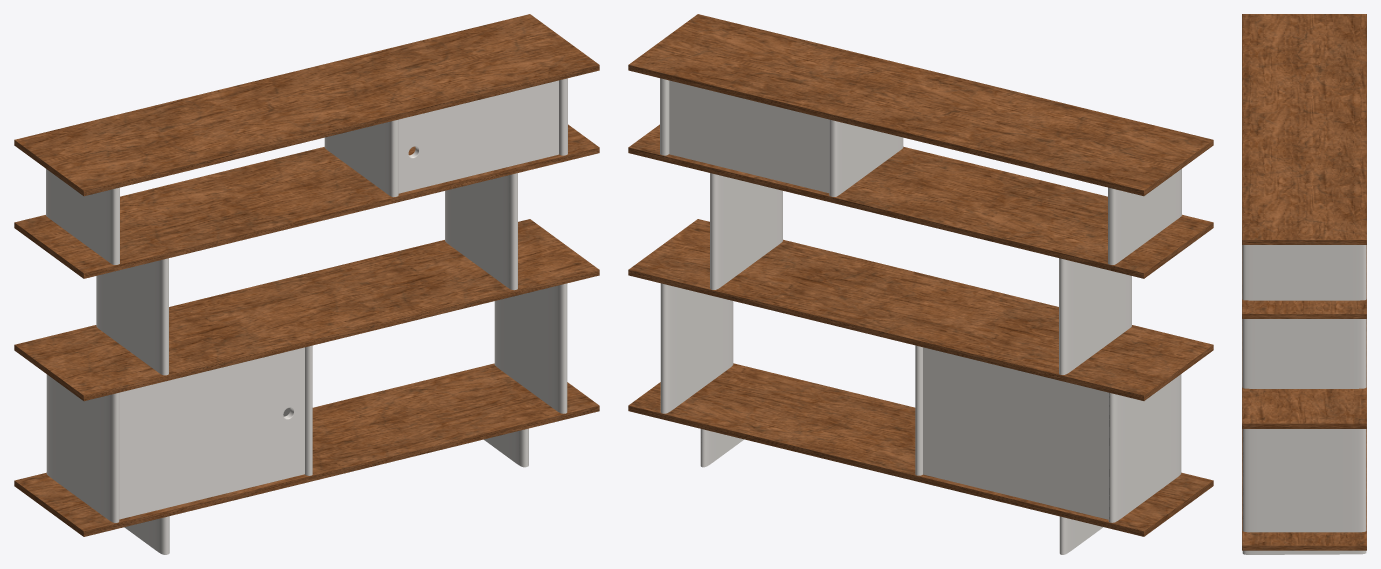
The model's file is shelf_bookcase.gltf.
The picture shows the model from 3 angles, left to right: view 1: azimuth 30°, elevation 25°; view 2: azimuth 150°, elevation 25°; view 3: azimuth 270°, elevation 25°; orthographic projection. The views are drawn at different scales.
Parts seen in each view (by area): view 1: Cube; view 2: Cube; view 3: Cube.
Boxes of the visible parts, x1=… form: Cube: x1=14, y1=14, x2=599, y2=554; Cube: x1=628, y1=14, x2=1213, y2=554; Cube: x1=1242, y1=14, x2=1366, y2=554.
Bounding box in the file's own units: 1.5 × 1.07 × 0.35.
1 material, 1 textured.
